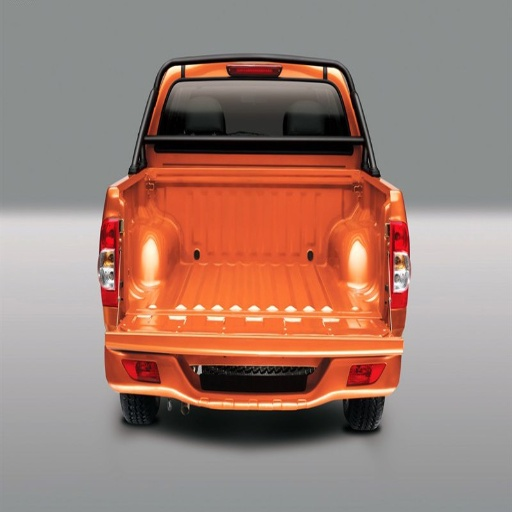back_bumper: (104, 319, 402, 410)
trunk: (115, 144, 383, 342)
